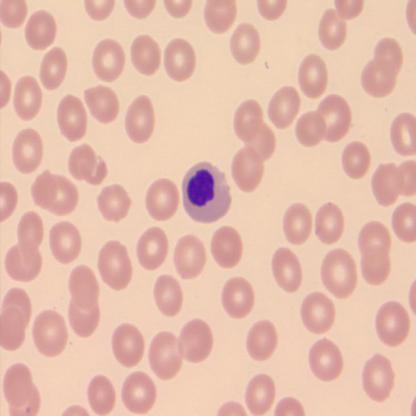NRC: (180, 158, 231, 224)
